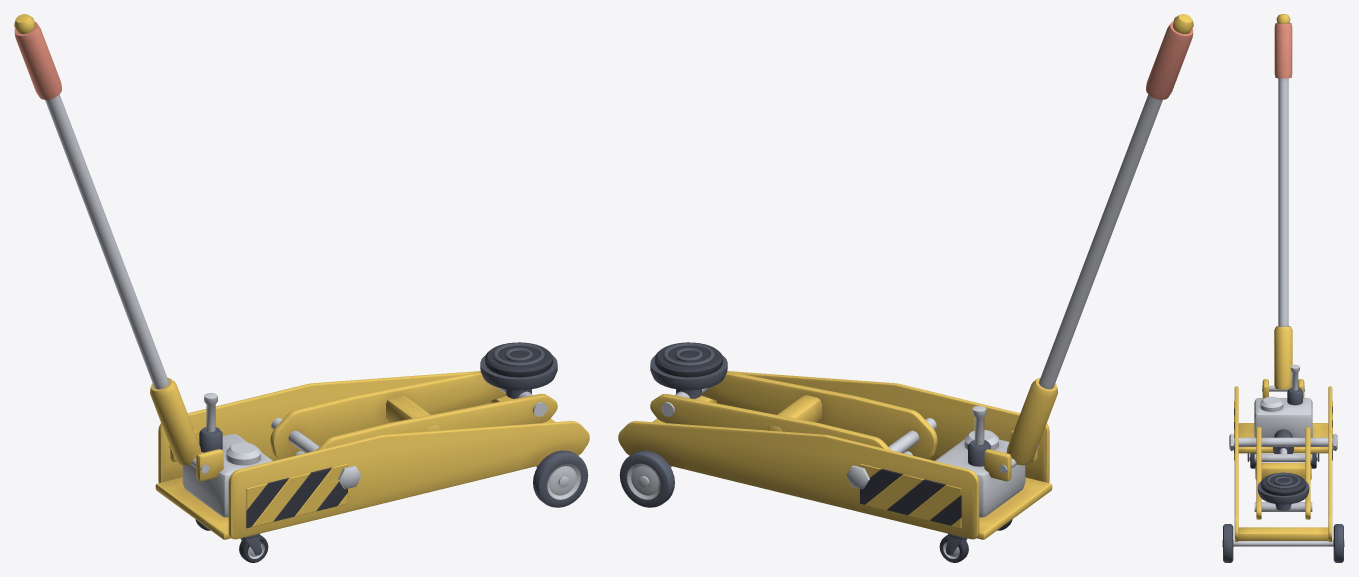
The model's file is car-jack.glb.
The picture shows the model from 3 angles, left to right: view 1: azimuth 30°, elevation 25°; view 2: azimuth 150°, elevation 25°; view 3: azimuth 270°, elevation 25°; orthographic projection. The views are drawn at different scales.
Visible parts, largest first — view 1: car-jack_body, car-jack_arm; view 2: car-jack_body, car-jack_arm; view 3: car-jack_body, car-jack_arm.
Part boxes in pixels (x1,y1,x2,y2): car-jack_body: (14, 14, 589, 562); car-jack_arm: (270, 342, 557, 489); car-jack_body: (618, 14, 1193, 562); car-jack_arm: (650, 342, 937, 489); car-jack_body: (1222, 14, 1344, 562); car-jack_arm: (1229, 427, 1337, 519).
Bounding box in the file's own units: 1.06 × 1.09 × 0.3136.
2 materials, 2 textured.
